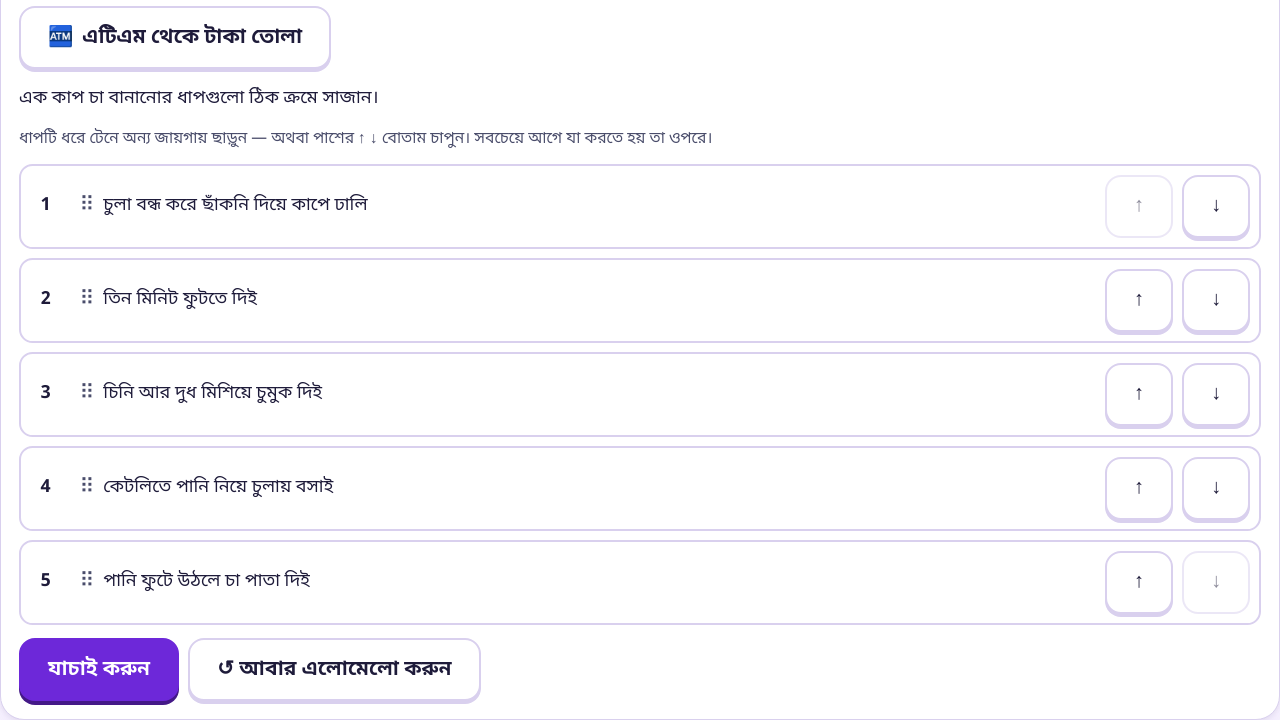
order-puzzle widget › wrong order shows a gentle message and ticks
(page scrolled)
Step 1. Click the button with test id "op-check" → (99, 670), box [19,638,179,701]
(page scrolled)
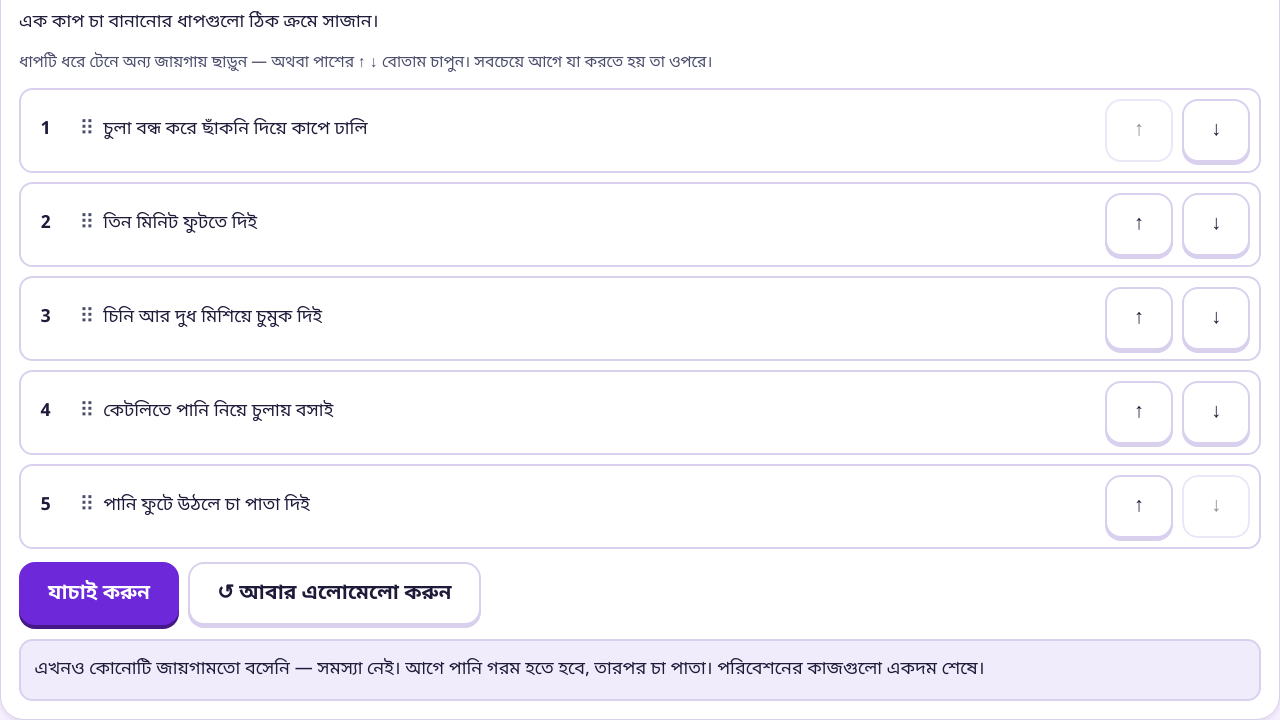
expect the message with test id "op-feedback" is shown: met, box [19,638,1261,701]
